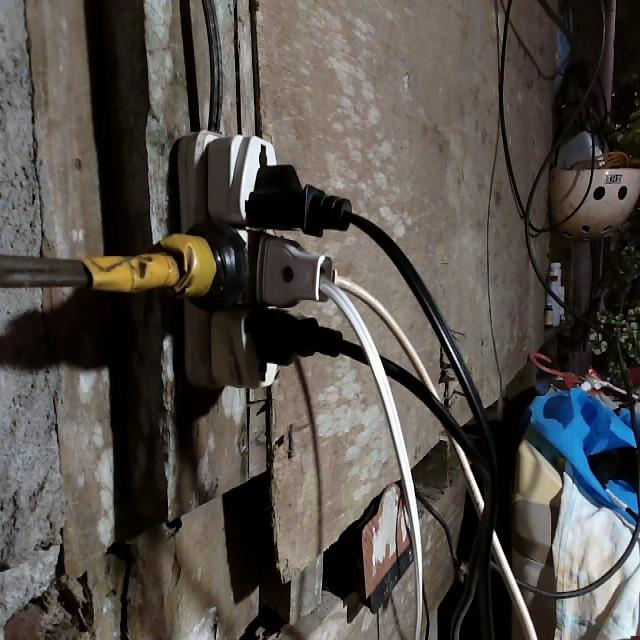-: (78, 127, 389, 390)
